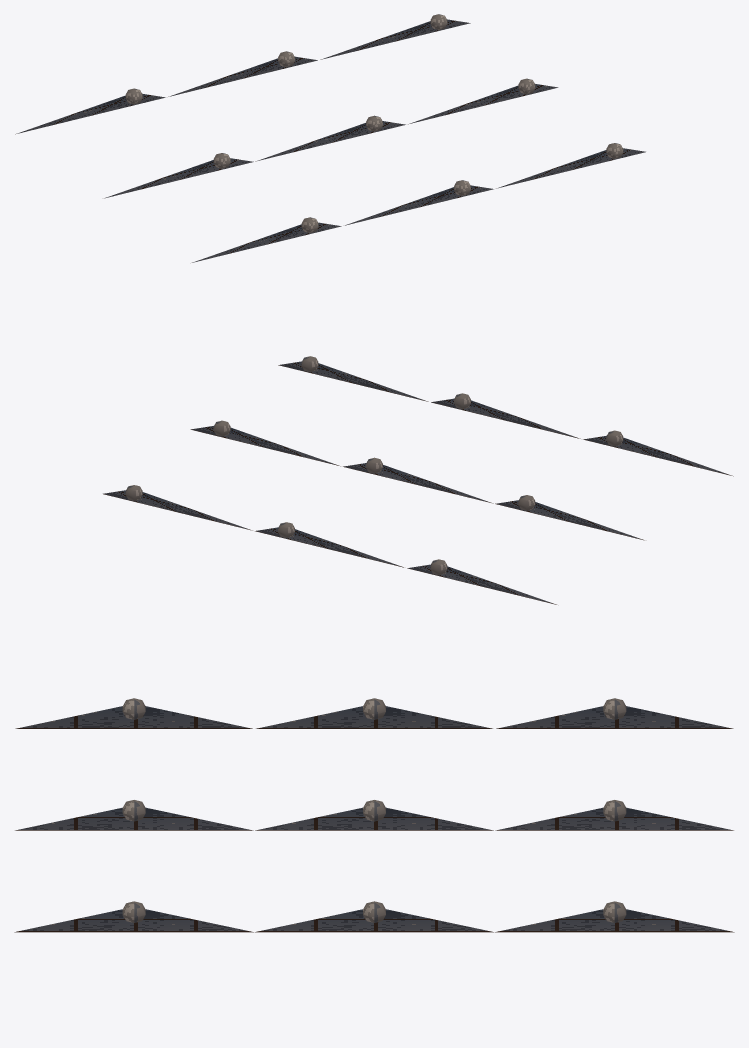
The model's file is dgn.ceiling__groin_3x3.glb.
3 renders of one model, top to bottom at view 1: azimuth 30°, elevation 25°; view 2: azimuth 150°, elevation 25°; view 3: azimuth 270°, elevation 25°, orthographic. The views are drawn at different scales.
Visible parts, largest first — view 1: kit_shell_groin, kit_boss; view 2: kit_shell_groin, kit_boss; view 3: kit_shell_groin, kit_boss.
Part boxes in pixels (box(x1,y1,x2,y2)): kit_shell_groin: box(15, 19, 645, 262); kit_boss: box(125, 14, 623, 232); kit_shell_groin: box(103, 361, 733, 604); kit_boss: box(125, 356, 623, 574); kit_shell_groin: box(14, 706, 734, 932); kit_boss: box(122, 698, 626, 922).
Bounding box in the file's own units: 12 × 1.48 × 12.
2 materials, 2 textured.
